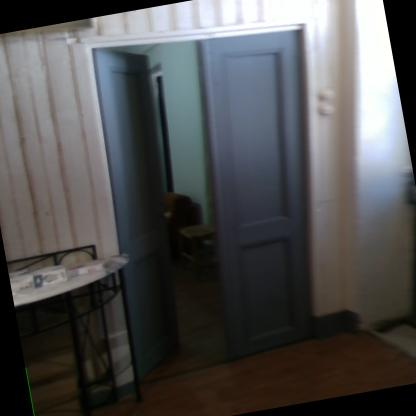semi: (62, 0, 359, 386)
